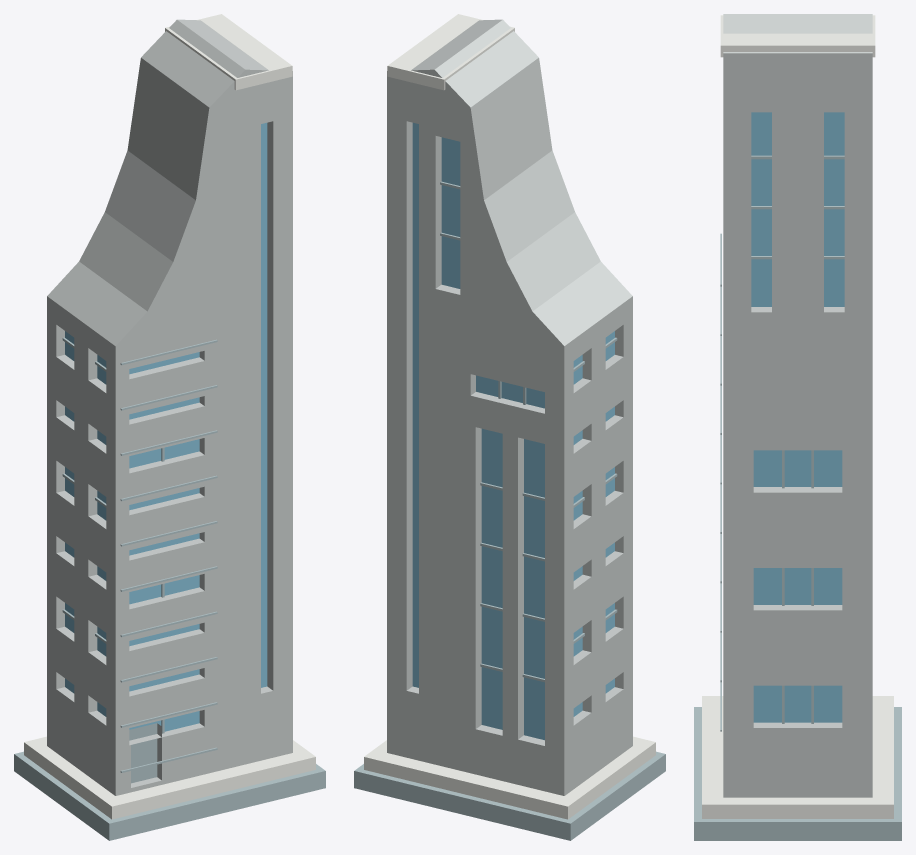
The model's file is 01_stepped_tower.glb.
3 views of the same model, side by side, from view 1: azimuth 30°, elevation 25°; view 2: azimuth 150°, elevation 25°; view 3: azimuth 270°, elevation 25° (orthographic). The views are drawn at different scales.
Parts seen in each view (by area): view 1: asymmetric_tower_shell, plinth, foundation, inset_glass (×3), window_reveal_geometry, roof_cap, inset_backing; view 2: asymmetric_tower_shell, inset_glass (×5), window_reveal_geometry (×4), plinth, foundation, roof_cap; view 3: asymmetric_tower_shell, inset_glass (×5), plinth, foundation, roof_cap, window_reveal_geometry (×3).
Part boxes in pixels (<box>): asymmetric_tower_shell: <box>47,19,292,795</box>; plinth: <box>24,736,315,819</box>; foundation: <box>14,751,325,840</box>; inset_glass (×3): <box>129,122,267,687</box>; window_reveal_geometry: <box>267,121,273,690</box>; roof_cap: <box>165,14,292,90</box>; inset_backing: <box>129,723,157,783</box>; asymmetric_tower_shell: <box>387,19,632,795</box>; inset_glass (×5): <box>412,122,544,740</box>; window_reveal_geometry (×4): <box>406,121,523,739</box>; plinth: <box>364,736,655,819</box>; foundation: <box>354,751,665,840</box>; roof_cap: <box>387,14,514,90</box>; asymmetric_tower_shell: <box>723,14,872,797</box>; inset_glass (×5): <box>751,112,844,722</box>; plinth: <box>702,696,893,818</box>; foundation: <box>694,707,901,840</box>; roof_cap: <box>720,15,875,57</box>; window_reveal_geometry (×3): <box>753,487,842,727</box>.
Bounding box in the file's own units: 2.1 × 6.72 × 1.6.
